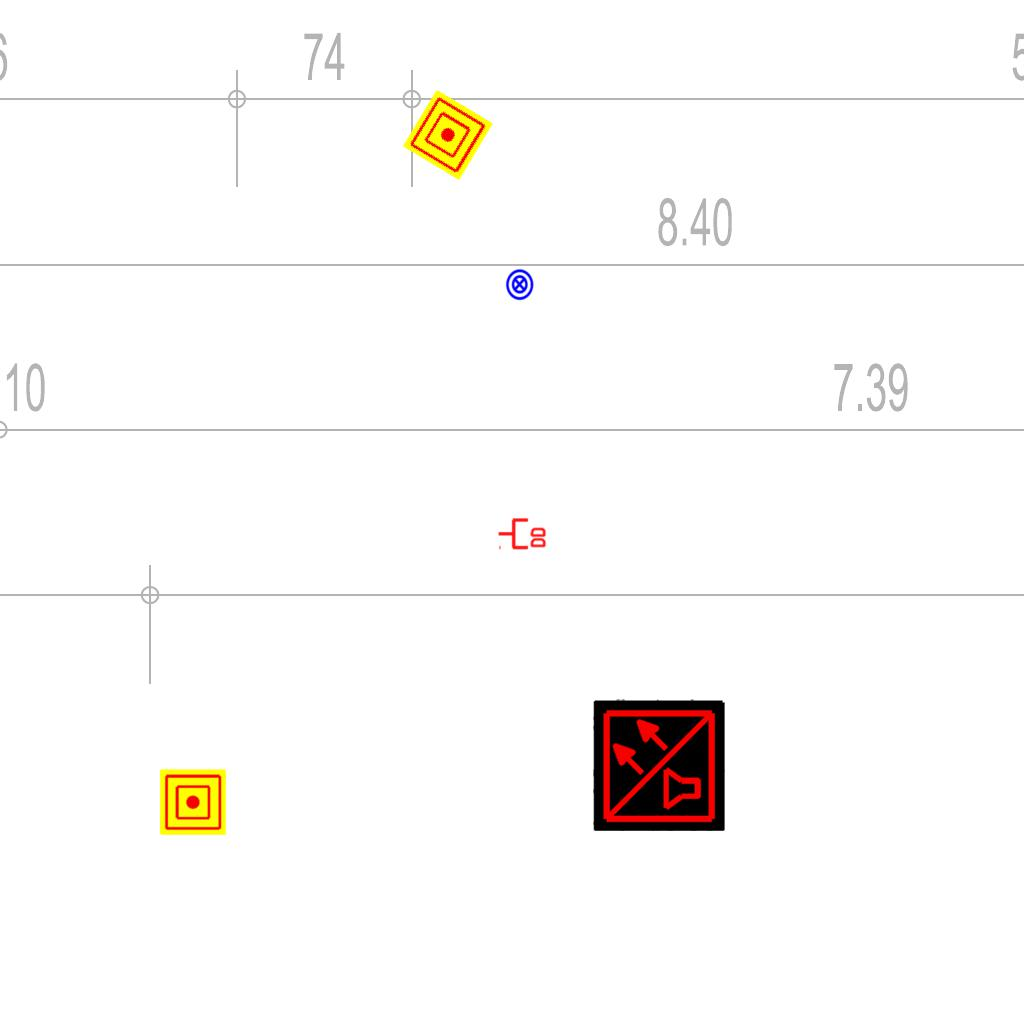Datenanschluss_zweifach: (497, 516, 548, 550)
NAM-Nichtautomatischer_Melder: (402, 89, 494, 181), (160, 769, 226, 835)
OKW_Multisensormelder_(Kombination_optischer_Rauch-Kahlenmonoxid_Waerme-Melder): (593, 699, 725, 831)
Taster_beleuchtet: (503, 268, 536, 301)
